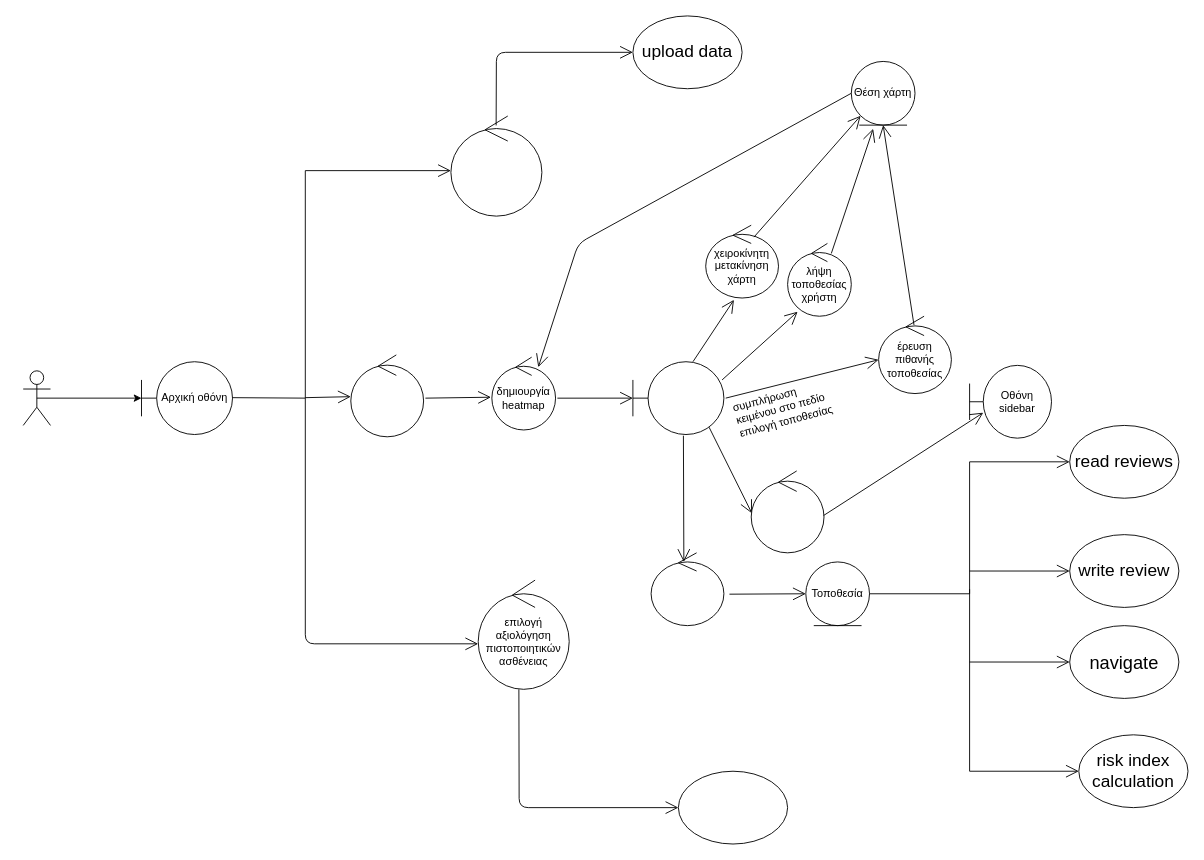
Some shapes in this 1204 by 860 pixel diagram are drawn without their labels. Here are the shapes that lost their labels. From the top down, the centre of each, then its label:
pixel 496 165: επιλογή ανέβασμα δεδομένων τοποεσίας
pixel 36 397: Χρήστης
pixel 387 395: επιλογή χρήσης εφαρμογής
pixel 678 398: Οθόνη heatmap
pixel 787 511: επιλογή κουμπιού sidebar
pixel 687 589: επιλογή τοποθεσίας
pixel 732 807: certificate review
